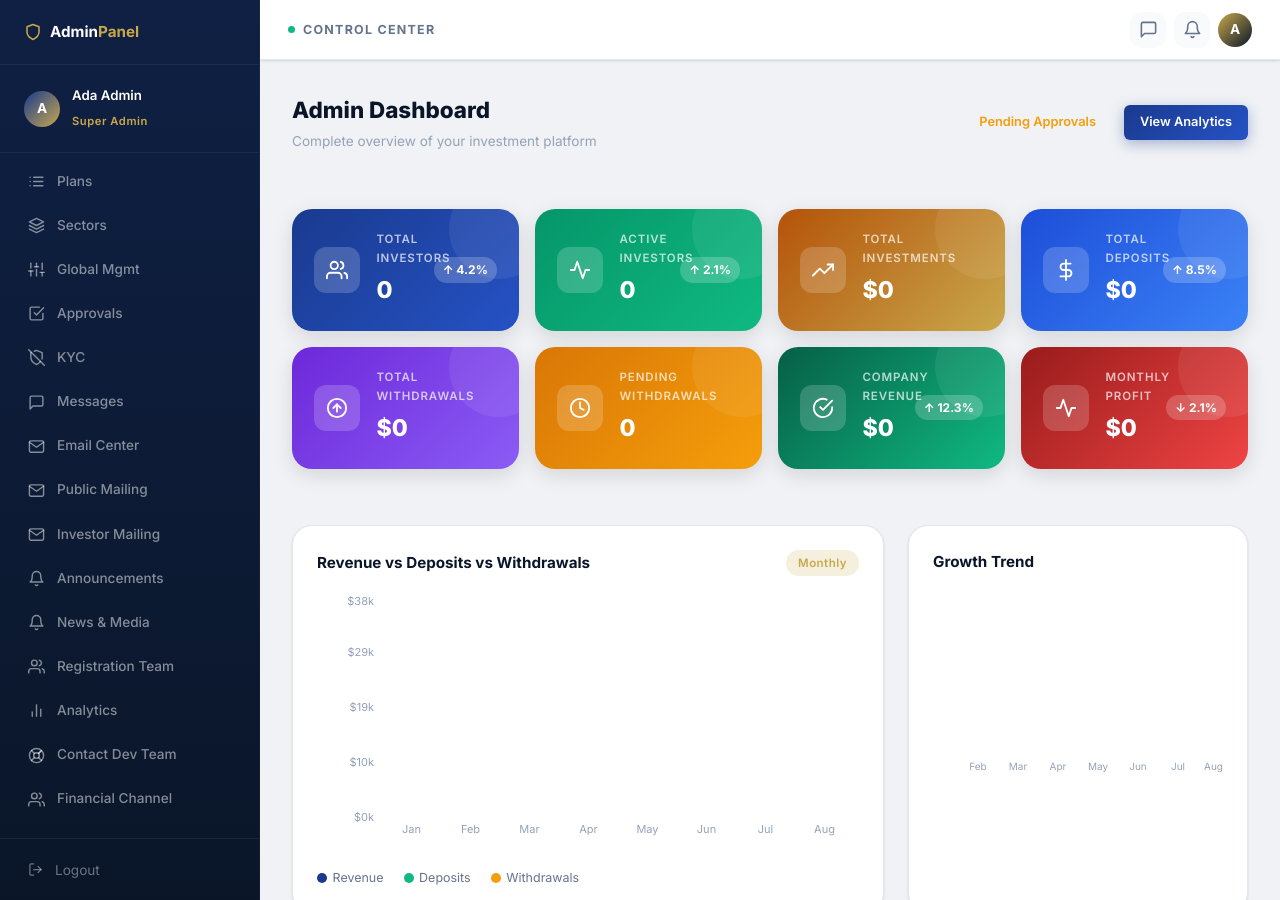
Test case: Admin — moving between the Admin dashboard and the Registration Team dashboard › browser Back from the Registration dashboard returns to the Admin page the Admin came from
Later steps or results of the test are not shown.
(page scrolled)
Click the link "Registration Team": (101, 667) [28,658,174,675]
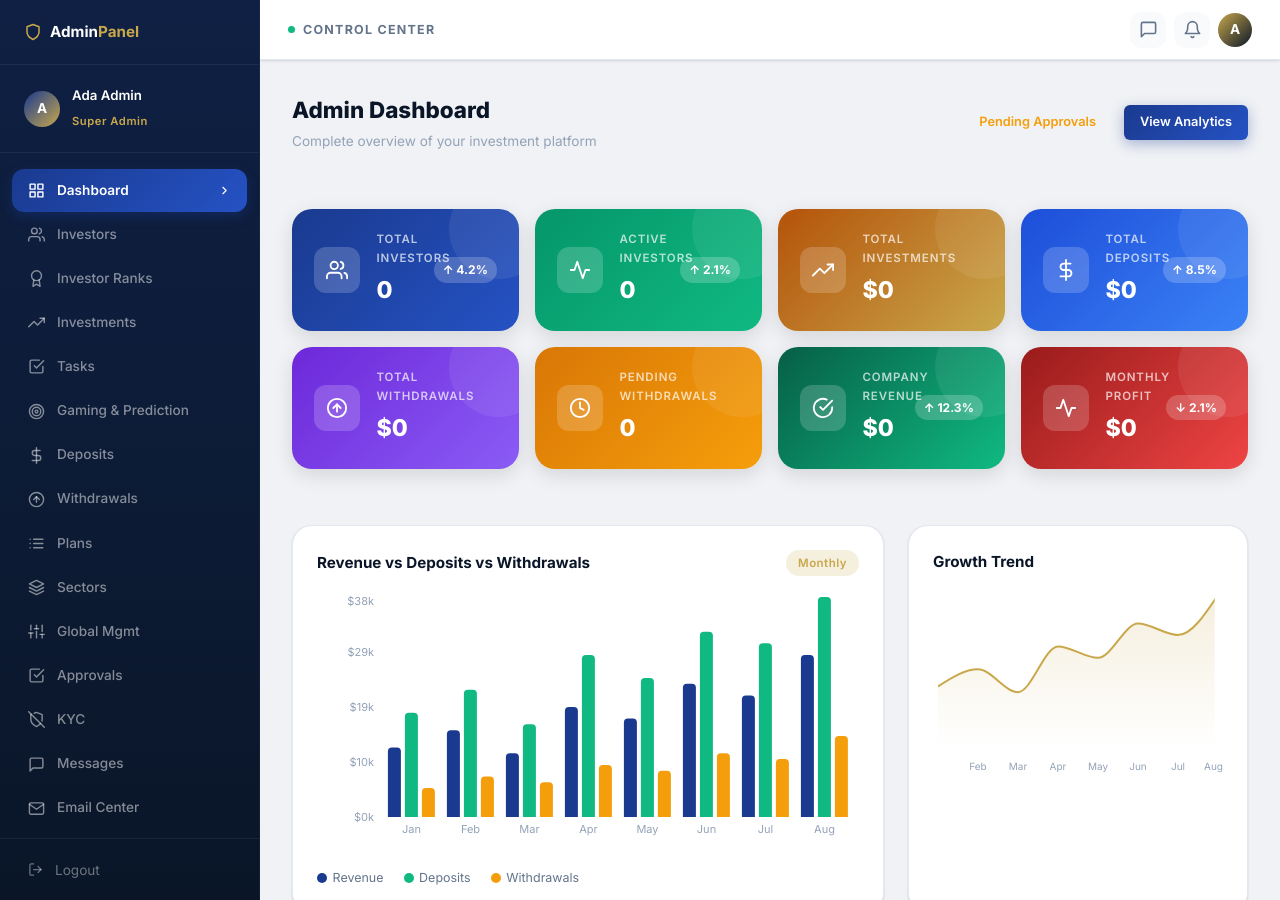
Check: the link "Investor Ranks" is shown, box [28,270,153,287]
